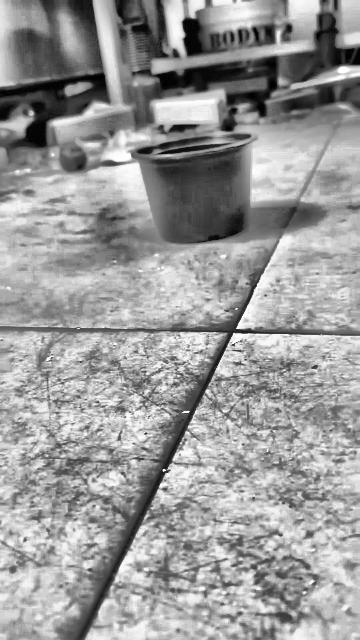pot: (131, 133, 257, 242)
